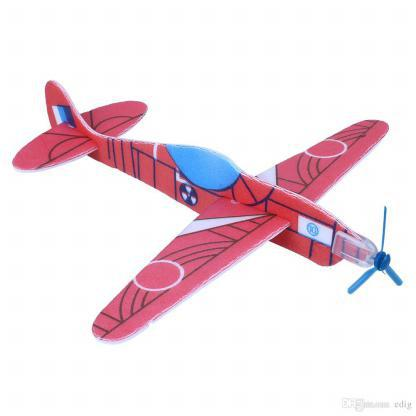CIV_Plane: (8, 72, 409, 366)
